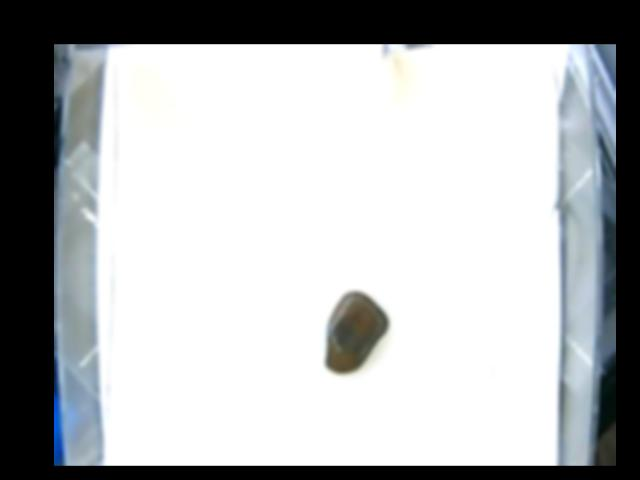Pebble: (323, 289, 392, 372)
